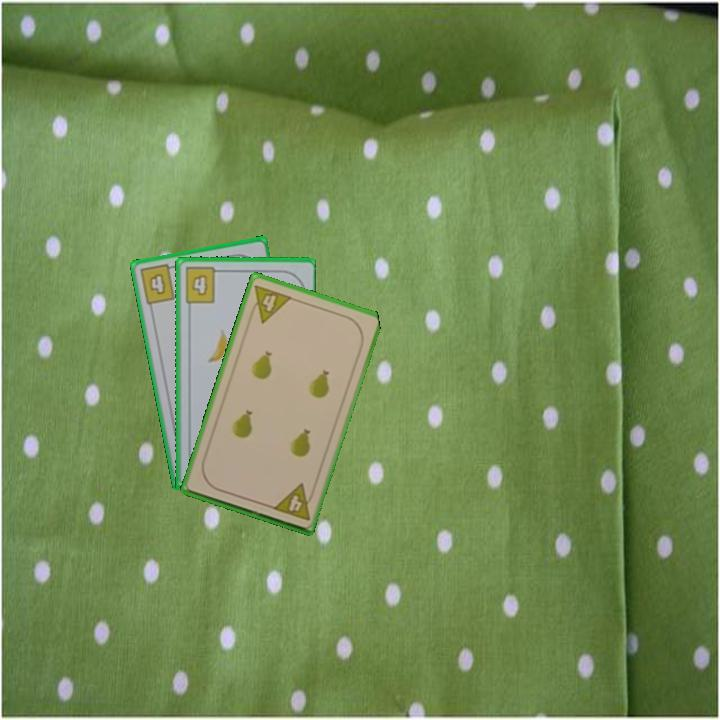4b: (136, 261, 179, 307), (182, 264, 224, 306)
4p: (245, 281, 295, 326), (269, 480, 318, 523)
